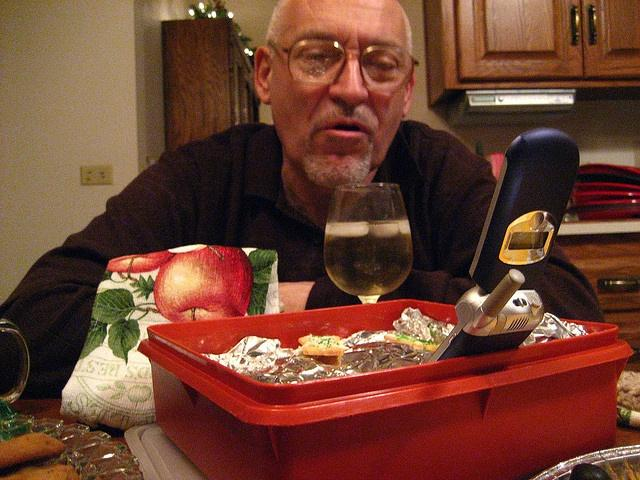Lemari: (420, 0, 639, 108)
